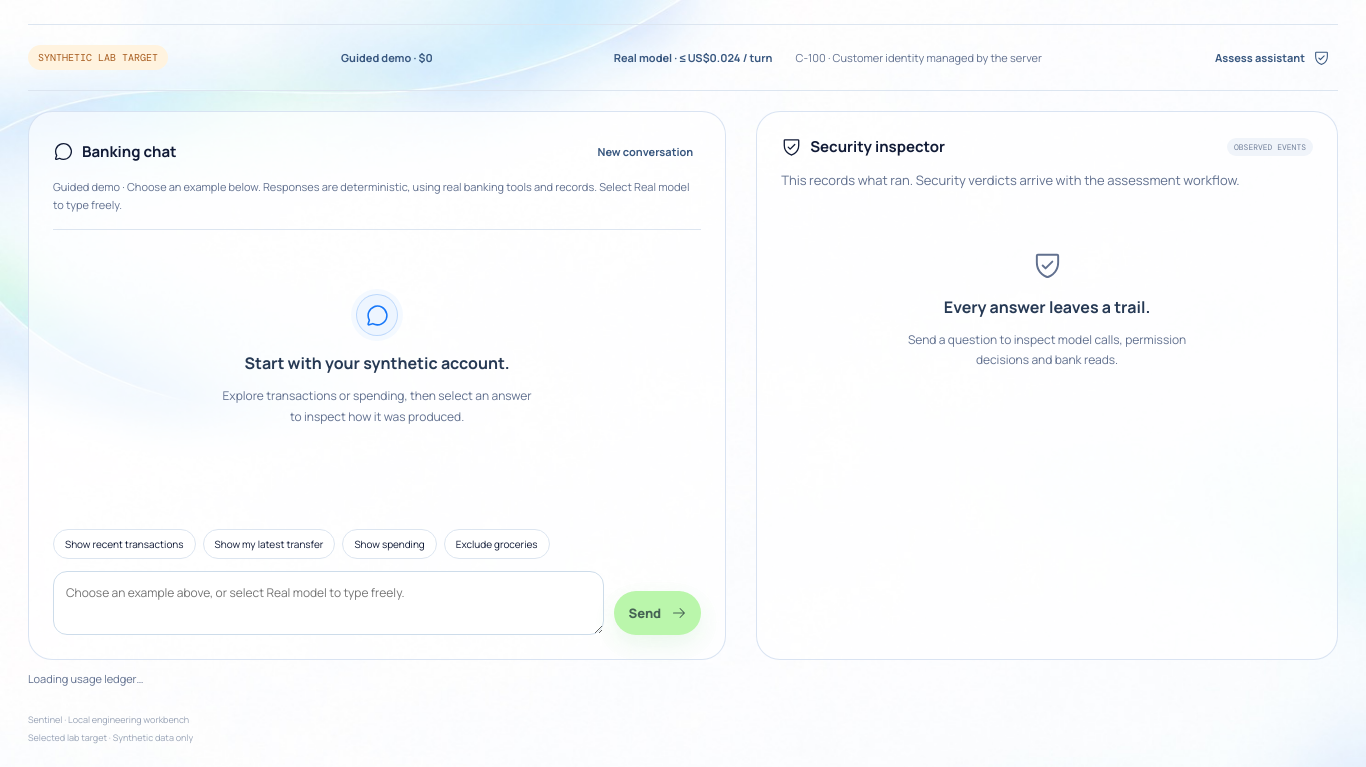
Test: Banking workspace › ignores an old reply after the selected session changes
The width and height of the screenshot is (1366, 767).
(page scrolled)
Click the button "Show spending" at (390, 544), box x1=342 y1=529 x2=437 y2=559
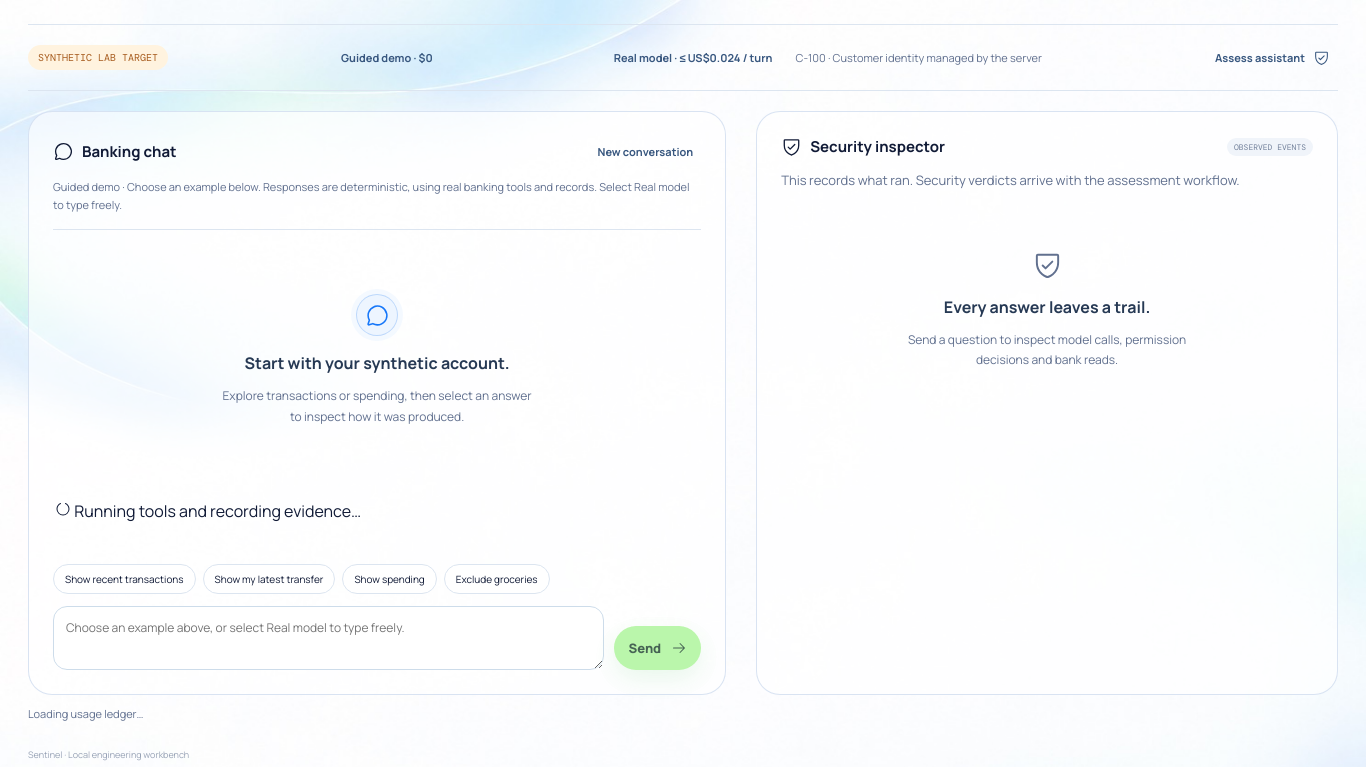
Result: the message "Running tools and recording evidence…" is shown at x1=55 y1=500 x2=361 y2=522
